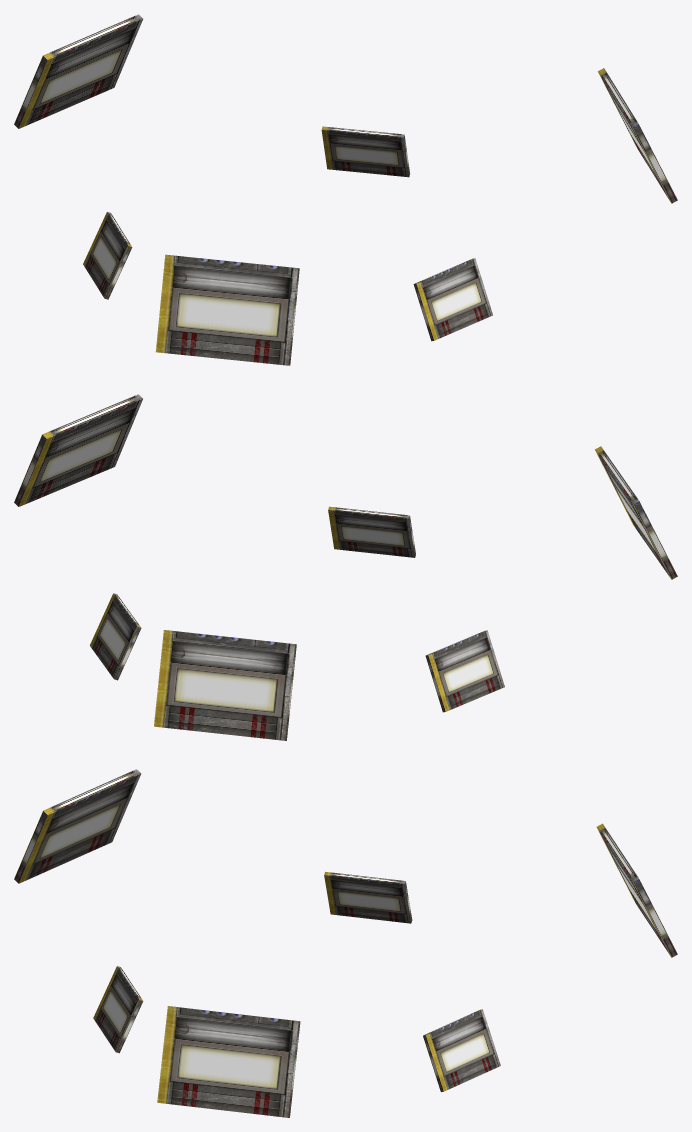
The model's file is building1_windows.gltf.
3 views of the same model, one above another, from view 1: azimuth 30°, elevation 25°; view 2: azimuth 150°, elevation 25°; view 3: azimuth 270°, elevation 25° (orthographic).
Parts seen in each view (by area): view 1: cube39, cube41, cube44, cube43, cube45, cube42; view 2: cube41, cube42, cube45, cube44, cube43, cube39; view 3: cube42, cube39, cube43, cube45, cube44, cube41.
Boxes of the visible parts, bbox=[...] form: cube39: bbox=[155, 254, 299, 365]; cube41: bbox=[14, 14, 142, 128]; cube44: bbox=[413, 258, 492, 341]; cube43: bbox=[321, 126, 409, 177]; cube45: bbox=[83, 211, 132, 299]; cube42: bbox=[598, 68, 677, 203]; cube41: bbox=[154, 630, 296, 740]; cube42: bbox=[14, 394, 142, 506]; cube45: bbox=[425, 630, 504, 712]; cube44: bbox=[328, 506, 415, 557]; cube43: bbox=[90, 593, 141, 680]; cube39: bbox=[595, 446, 677, 579]; cube42: bbox=[157, 1006, 300, 1117]; cube39: bbox=[14, 769, 141, 883]; cube43: bbox=[423, 1009, 500, 1091]; cube45: bbox=[324, 871, 412, 923]; cube44: bbox=[93, 966, 143, 1053]; cube41: bbox=[596, 823, 677, 957].
Bounding box in the file's own units: 31.09 × 6.78 × 31.13.
1 material, 1 textured.
